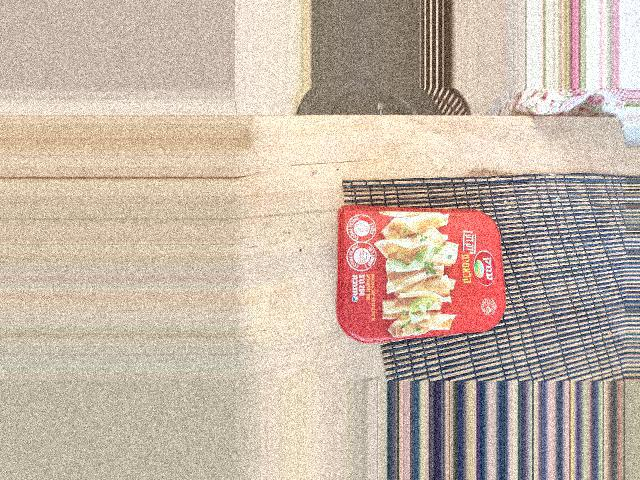cheese: (457, 199, 582, 389)
